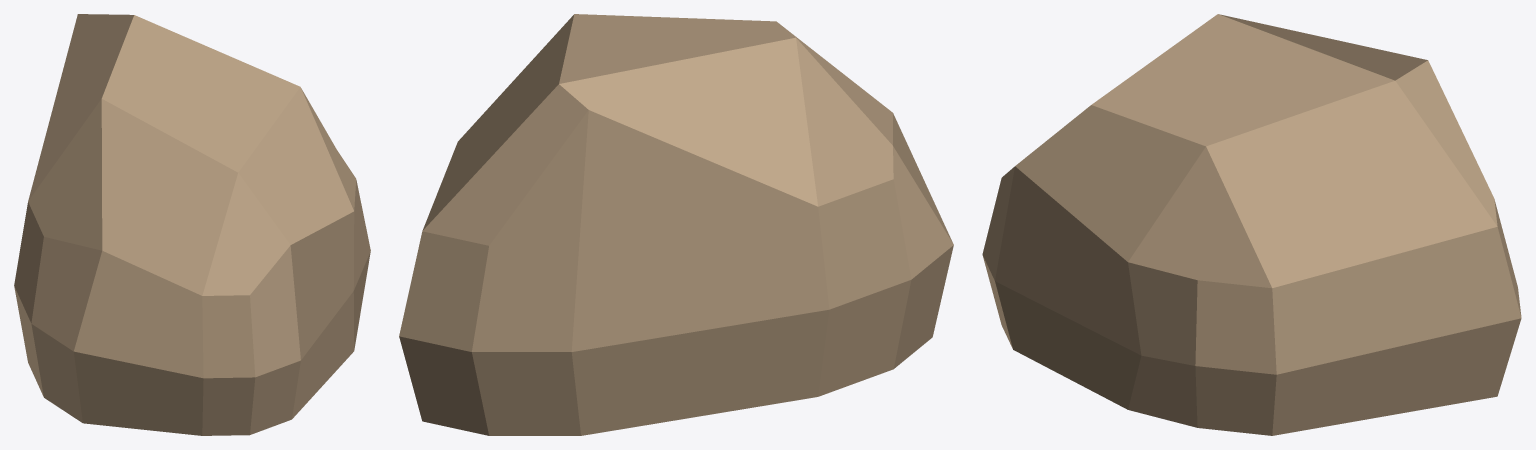
File: rock_21.FBX
The picture shows the model from 3 angles, left to right: view 1: azimuth 30°, elevation 25°; view 2: azimuth 150°, elevation 25°; view 3: azimuth 270°, elevation 25°; orthographic projection. The views are drawn at different scales.
Parts seen in each view (by area): view 1: rock_21; view 2: rock_21; view 3: rock_21.
Boxes of the visible parts, <box> form: rock_21: <box>14,14,370,435</box>; rock_21: <box>399,14,953,435</box>; rock_21: <box>982,14,1521,435</box>.
Size of the model in its own units: 788 by 572 by 970.
